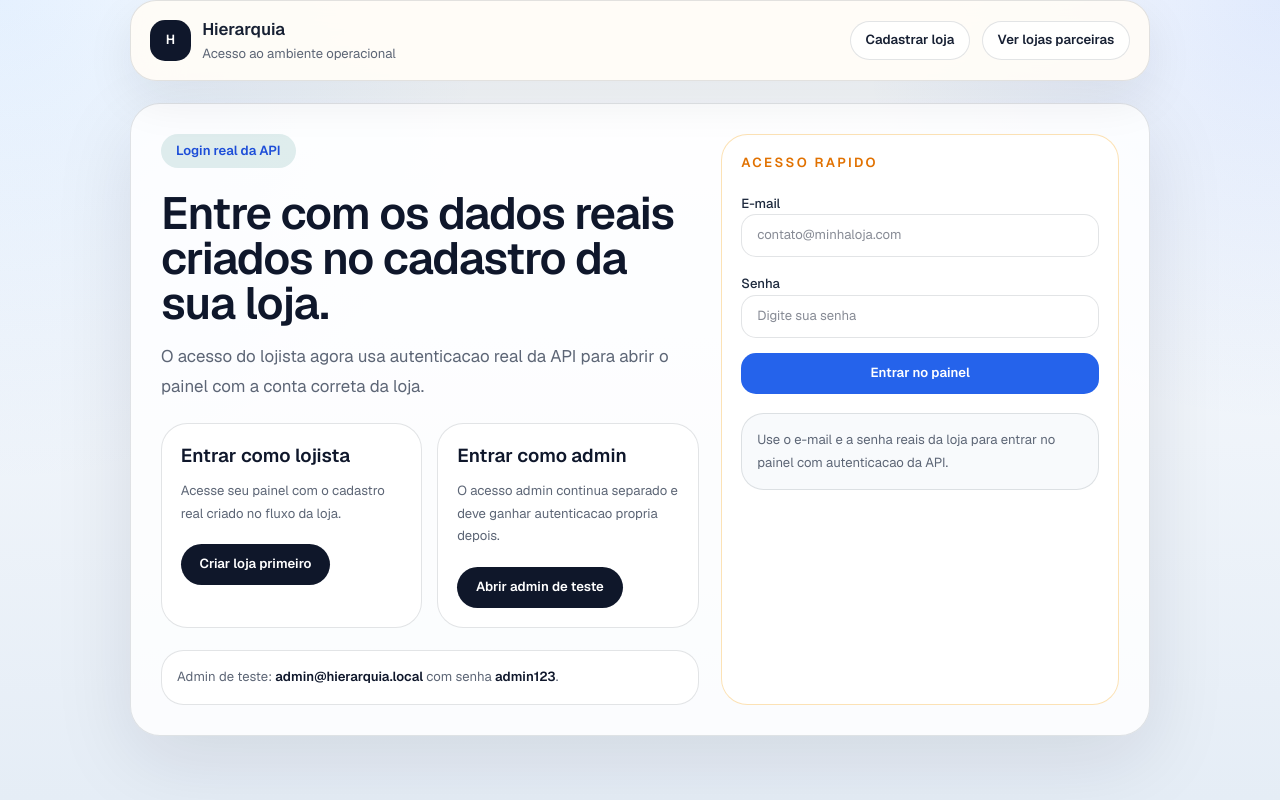
Test case: LoginPage › deve mostrar erro quando a autenticacao falhar
This screenshot has width=1280, height=800.
Type "renata@ateliesolar.com" into the field labelled "E-mail". click: [920, 236]
box: [741,214,1099,257]
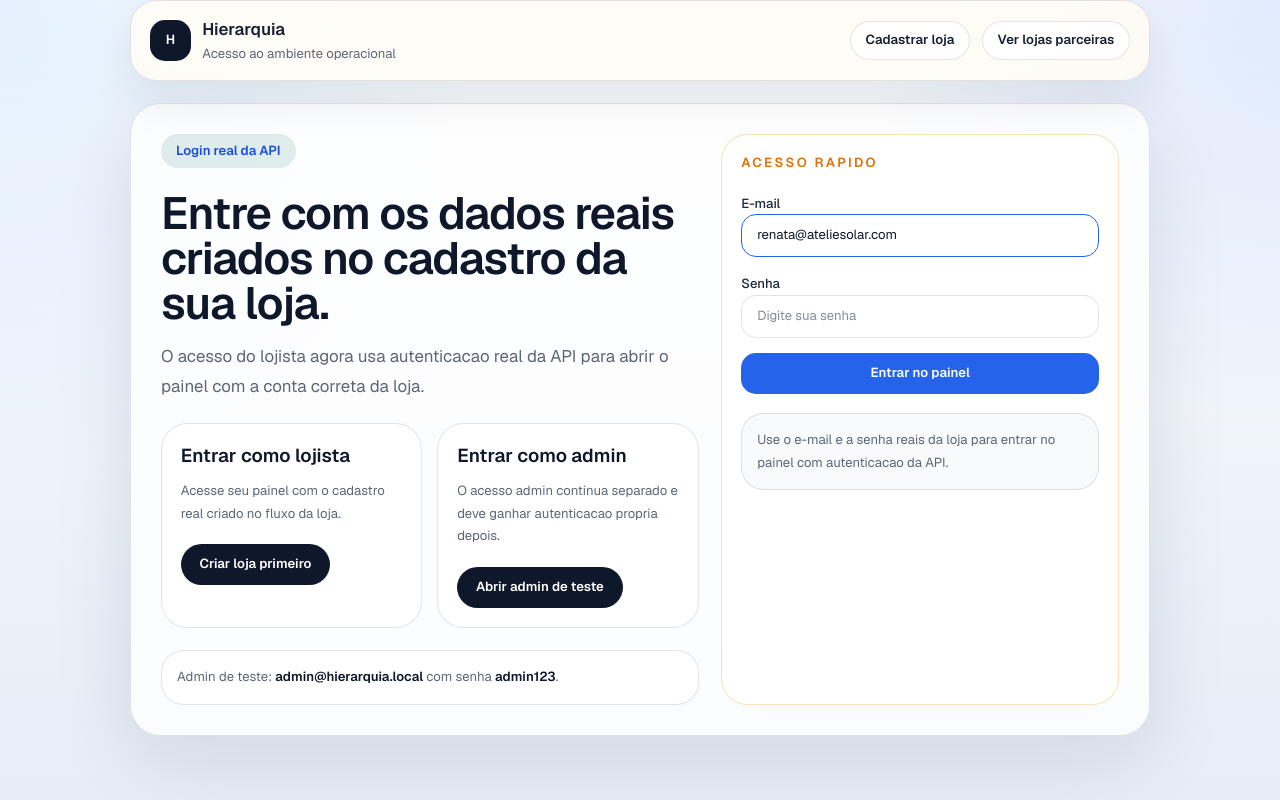
Type "senha-errada" into the password field labelled "Senha". click: [920, 316]
box: [741,295,1099,338]
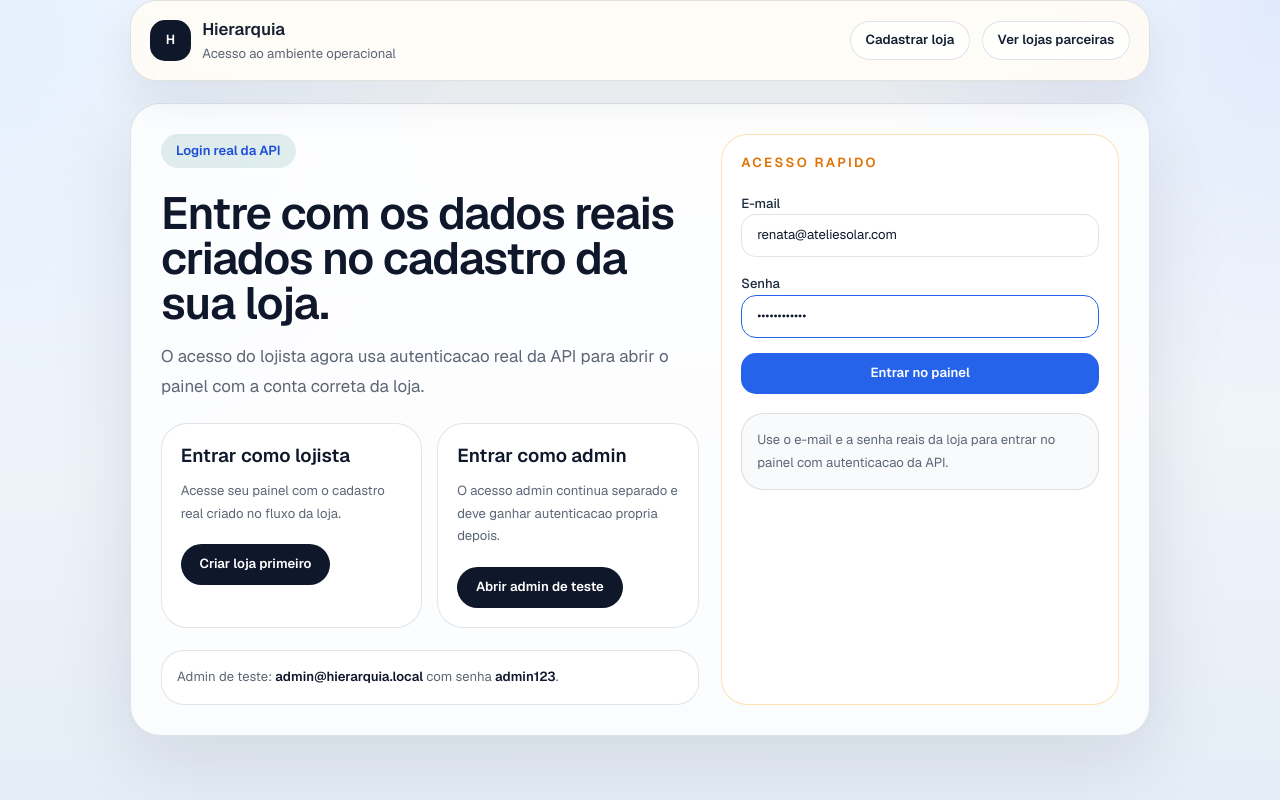
Click the button "Entrar no painel". click: [920, 374]
box: [741,353,1099,394]
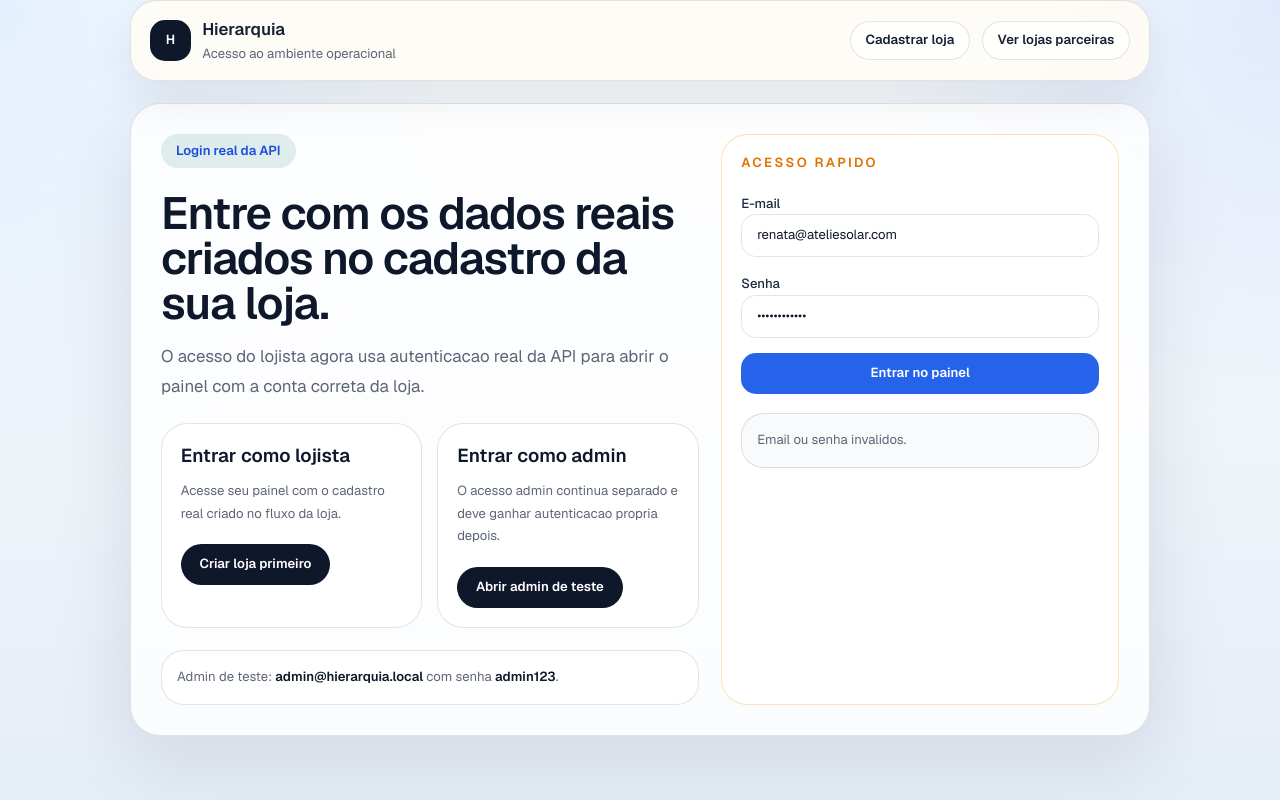
Check: the text "Email ou senha invalidos." is shown, box [741,413,1099,468]
